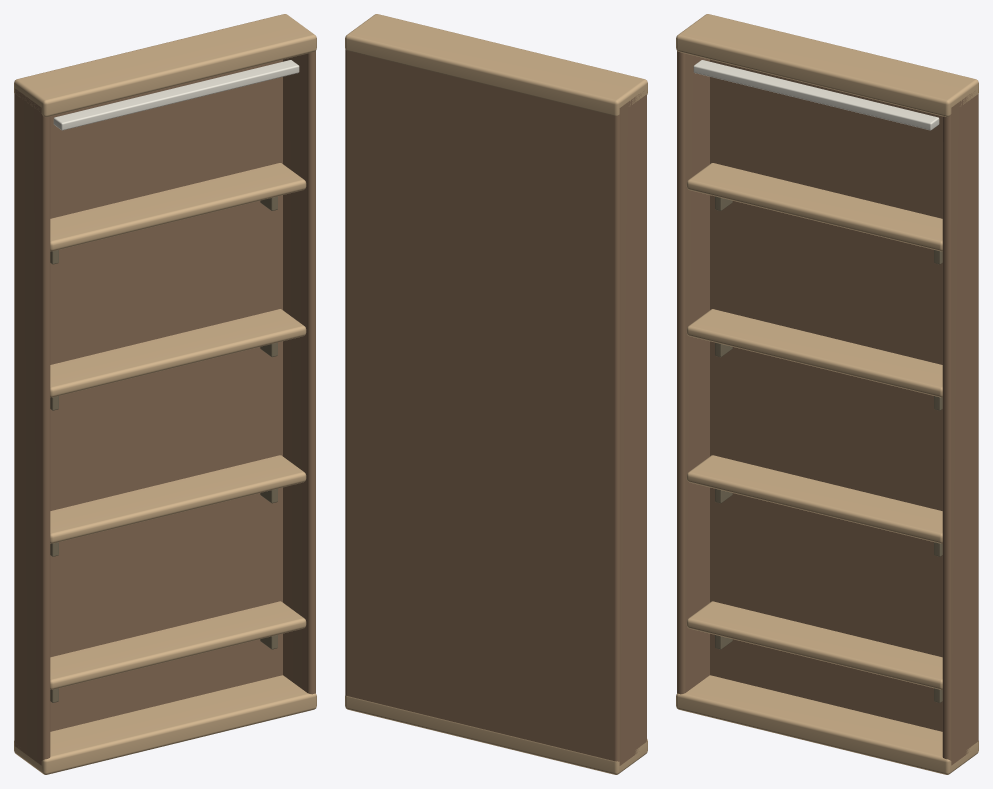
Rendered from wall_book_narrow.glb.
3 renders of one model, left to right at view 1: azimuth 30°, elevation 25°; view 2: azimuth 150°, elevation 25°; view 3: azimuth 330°, elevation 25°, orthographic.
Visible parts, largest first — view 1: Closed back, seated against existing opaque boundary, Outer stile, Outer stile.001, Bottom / crown.001, Bottom / crown, Load-bearing shelf, Load-bearing shelf.001, Load-bearing shelf.002, Load-bearing shelf.003, Integrated light diffuser; view 2: Closed back, seated against existing opaque boundary, Outer stile, Bottom / crown.001, Bottom / crown; view 3: Closed back, seated against existing opaque boundary, Outer stile.001, Outer stile, Bottom / crown.001, Bottom / crown, Load-bearing shelf, Load-bearing shelf.001, Load-bearing shelf.002, Load-bearing shelf.003, Integrated light diffuser.
Part boxes in pixels (bbox=[...]): Closed back, seated against existing opaque boundary: bbox=[14, 59, 282, 745]; Outer stile: bbox=[15, 89, 50, 765]; Outer stile.001: bbox=[283, 51, 315, 694]; Bottom / crown.001: bbox=[14, 14, 316, 116]; Bottom / crown: bbox=[14, 675, 316, 774]; Load-bearing shelf: bbox=[50, 601, 306, 689]; Load-bearing shelf.001: bbox=[50, 455, 306, 543]; Load-bearing shelf.002: bbox=[50, 309, 306, 397]; Load-bearing shelf.003: bbox=[50, 163, 306, 251]; Integrated light diffuser: bbox=[53, 60, 299, 130]; Closed back, seated against existing opaque boundary: bbox=[345, 49, 620, 765]; Outer stile: bbox=[620, 91, 646, 765]; Bottom / crown.001: bbox=[345, 14, 647, 115]; Bottom / crown: bbox=[345, 695, 647, 774]; Closed back, seated against existing opaque boundary: bbox=[710, 59, 978, 741]; Outer stile.001: bbox=[942, 91, 977, 765]; Outer stile: bbox=[677, 51, 709, 694]; Bottom / crown.001: bbox=[676, 14, 978, 116]; Bottom / crown: bbox=[676, 675, 978, 774]; Load-bearing shelf: bbox=[686, 601, 942, 689]; Load-bearing shelf.001: bbox=[686, 455, 942, 543]; Load-bearing shelf.002: bbox=[686, 309, 942, 397]; Load-bearing shelf.003: bbox=[686, 163, 942, 251]; Integrated light diffuser: bbox=[693, 60, 939, 130].
Bounding box in the file's own units: 1 × 2.36 × 0.2.
